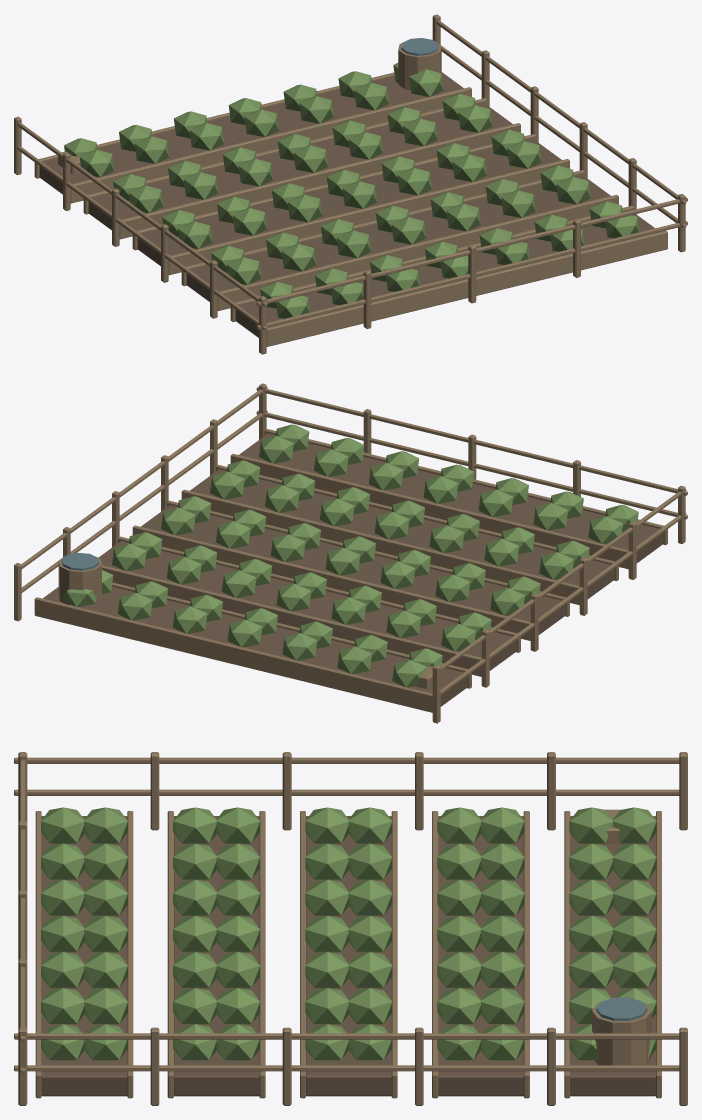
Rendered from farm.glb.
3 views of the same model, one above another, from view 1: azimuth 30°, elevation 25°; view 2: azimuth 150°, elevation 25°; view 3: azimuth 270°, elevation 25° (orthographic). The views are drawn at different scales.
Visible parts, largest first — view 1: farm; view 2: farm; view 3: farm.
Part boxes in pixels (x1=…): farm: x1=14, y1=14, x2=687, y2=354; farm: x1=14, y1=383, x2=687, y2=723; farm: x1=14, y1=752, x2=687, y2=1105.
Bounding box in the file's own units: 7.6 × 0.95 × 7.65.
